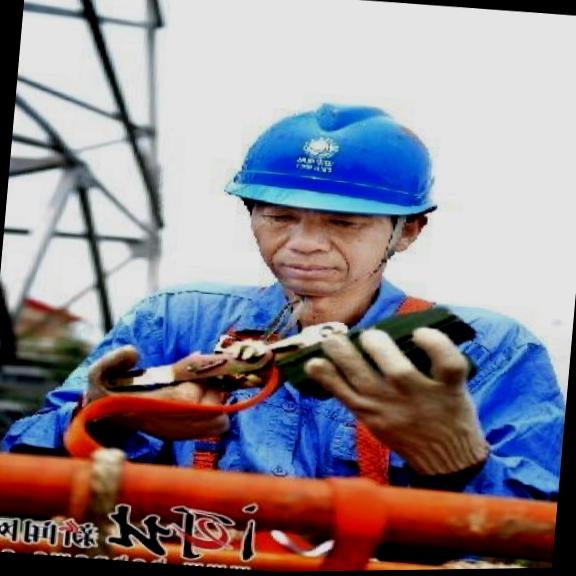no_safety_vest: (0, 258, 575, 542)
